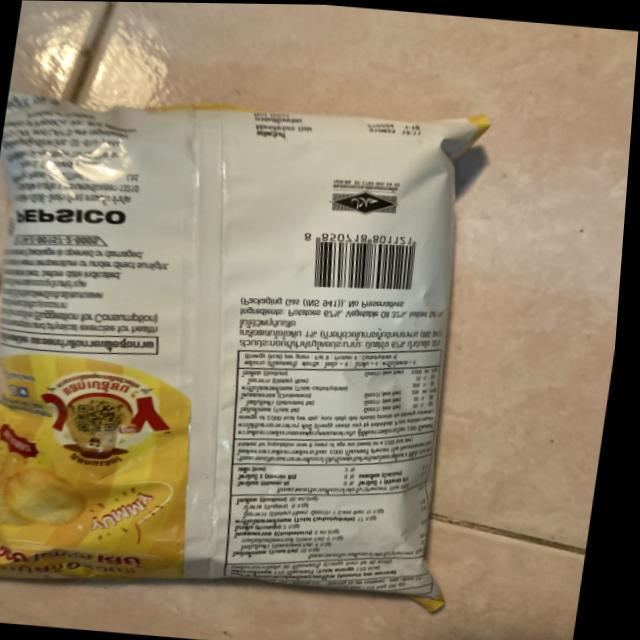LayYellow: (0, 69, 502, 616)
